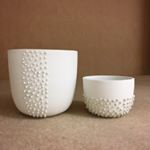cups: (6, 46, 80, 119), (80, 73, 139, 119)
